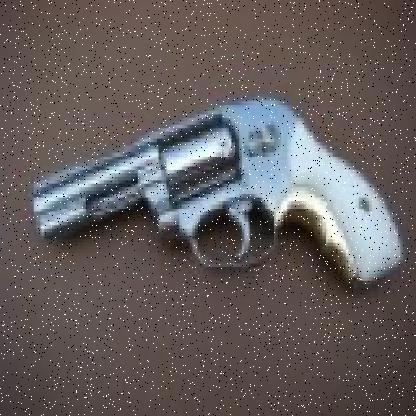pistol: (34, 97, 401, 312)
